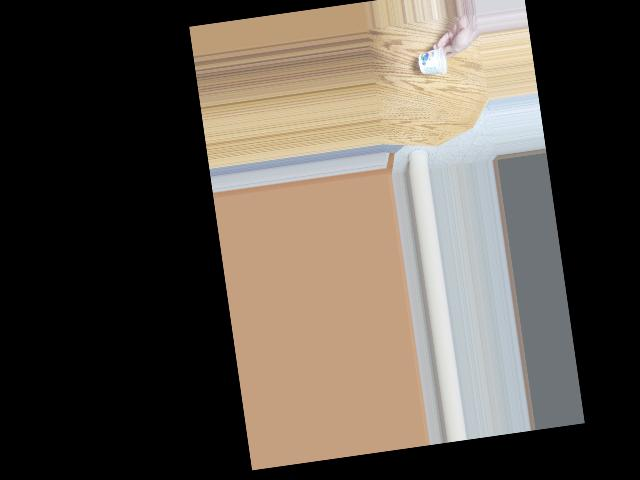cotage: (418, 45, 449, 80)
